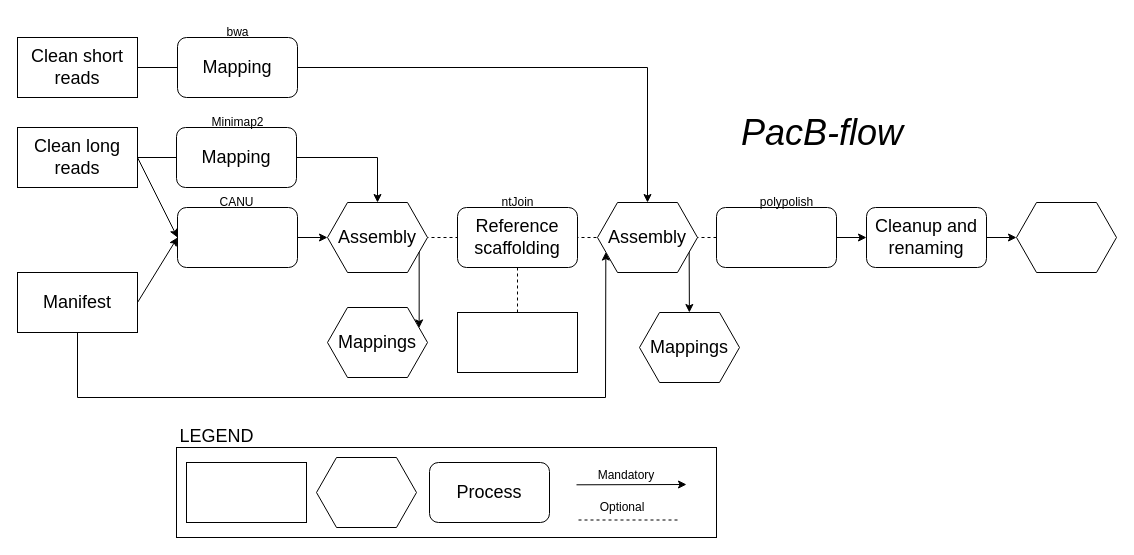
Image size: 1134x555. Some labels were removed from this diagram. Each missing label, with the box of its shape:
Final assembly: (1016, 202, 1116, 272)
INPUT: (186, 462, 306, 522)
Long read assembly: (176, 206, 298, 268)
OUTPUT: (316, 456, 416, 528)
Polishing: (716, 206, 836, 268)
Reference genome: (456, 312, 578, 372)
